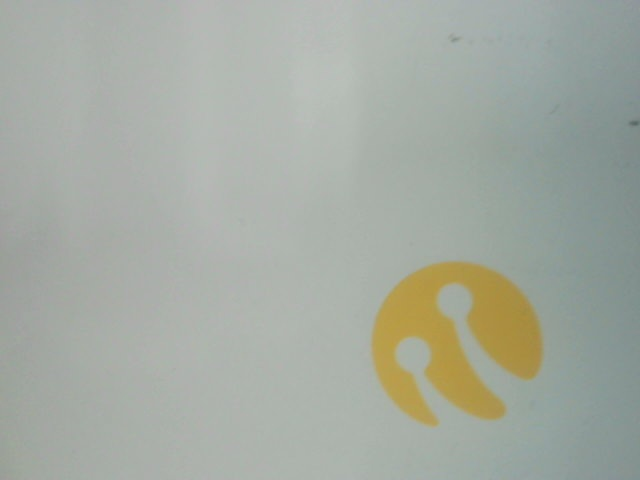AV_H3600Yellow: (340, 246, 558, 426)
